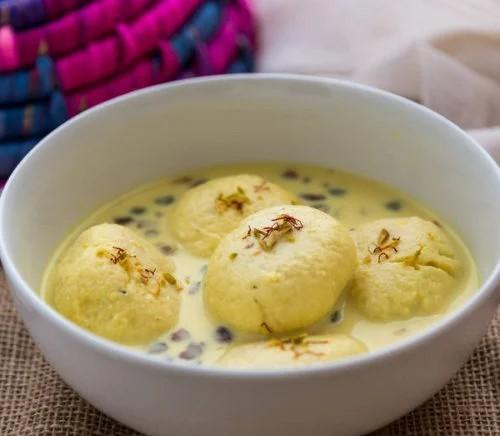RasMalai: (44, 161, 477, 366)
